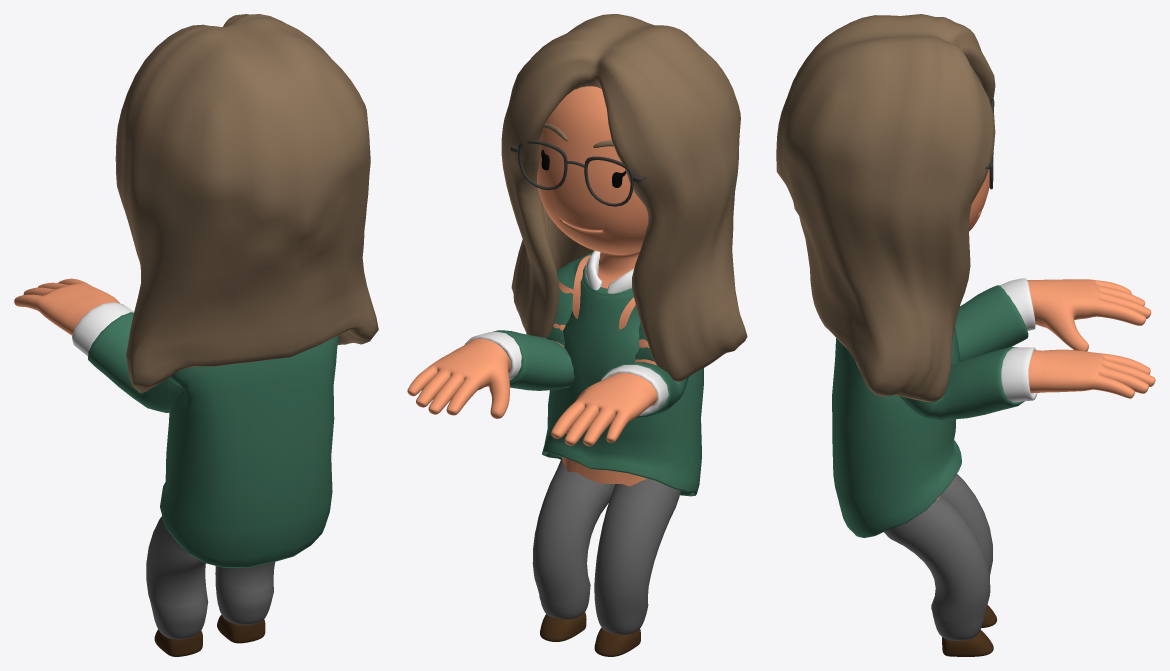
The picture shows the model from 3 angles, left to right: view 1: azimuth 30°, elevation 25°; view 2: azimuth 150°, elevation 25°; view 3: azimuth 270°, elevation 25°; orthographic projection. The views are drawn at different scales.
Parts seen in each view (by area): view 1: Hair_11, Jumper.001, Cube.044, Cube.045, body.007, Cube.046, Cube.047; view 2: Hair_11, Jumper.001, head.003, body.007, Cube.044, Cube.045, eyeglass_2, Cube.046, Cube.047; view 3: Hair_11, Jumper.001, body.007, Cube.045, Cube.044, Cube.046.
Part boxes in pixels (x1=…): Hair_11: x1=115, y1=14, x2=378, y2=392; Jumper.001: x1=72, y1=302, x2=339, y2=567; Cube.044: x1=146, y1=516, x2=208, y2=639; Cube.045: x1=215, y1=562, x2=275, y2=625; body.007: x1=14, y1=278, x2=119, y2=335; Cube.046: x1=217, y1=615, x2=265, y2=643; Cube.047: x1=154, y1=629, x2=202, y2=656; Hair_11: x1=501, y1=14, x2=747, y2=381; Jumper.001: x1=464, y1=250, x2=703, y2=496; head.003: x1=537, y1=86, x2=648, y2=329; body.007: x1=407, y1=282, x2=657, y2=486; Cube.044: x1=594, y1=478, x2=680, y2=635; Cube.045: x1=532, y1=457, x2=615, y2=619; eyeglass_2: x1=510, y1=140, x2=646, y2=206; Cube.046: x1=540, y1=612, x2=586, y2=641; Cube.047: x1=594, y1=627, x2=640, y2=656; Hair_11: x1=776, y1=14, x2=995, y2=401; Jumper.001: x1=832, y1=278, x2=1037, y2=537; body.007: x1=936, y1=279, x2=1155, y2=499; Cube.045: x1=884, y1=495, x2=990, y2=640; Cube.044: x1=941, y1=474, x2=992, y2=576; Cube.046: x1=942, y1=630, x2=993, y2=656.
Bounding box in the file's own units: 4.91 × 12.18 × 6.87.
